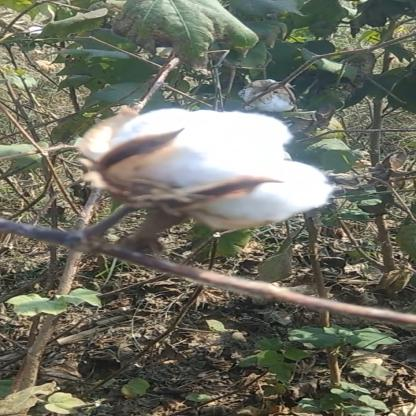cotton_ready: (82, 90, 312, 276)
